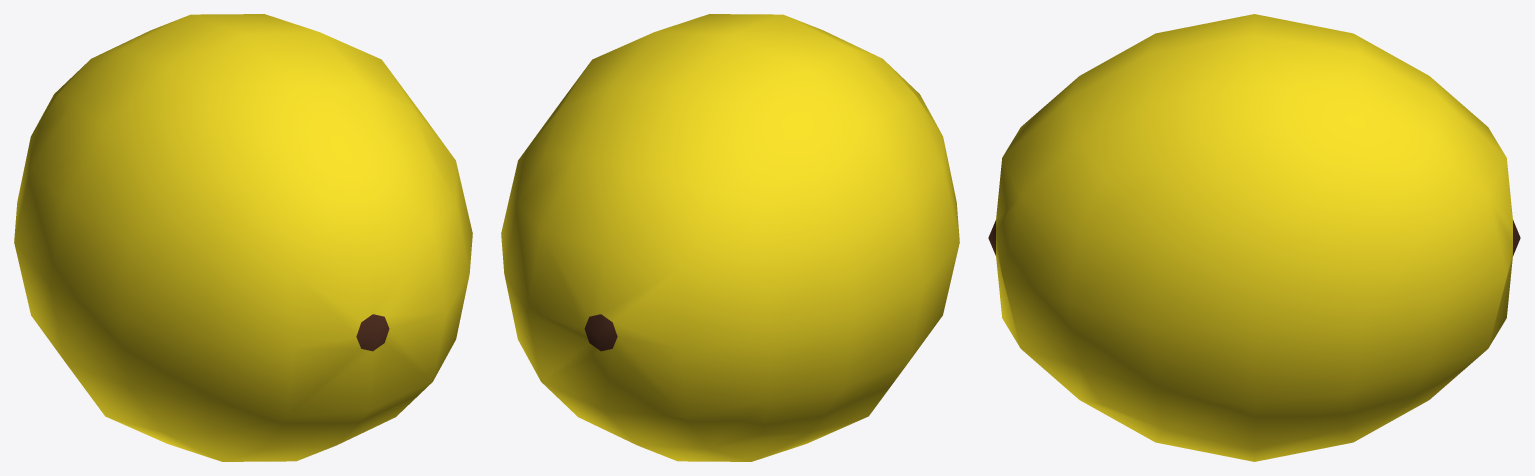
Rendered from Lemon.glb.
The picture shows the model from 3 angles, left to right: view 1: azimuth 30°, elevation 25°; view 2: azimuth 150°, elevation 25°; view 3: azimuth 270°, elevation 25°; orthographic projection.
Parts seen in each view (by area): view 1: Lemon; view 2: Lemon; view 3: Lemon.
Boxes of the visible parts, box(x1,y1,x2,y2) form: Lemon: box(14, 14, 472, 461); Lemon: box(501, 14, 959, 461); Lemon: box(988, 14, 1520, 461).
Bounding box in the file's own units: 0.0461 × 0.0461 × 0.0551.
Materials: 1 (1 with a texture image).
